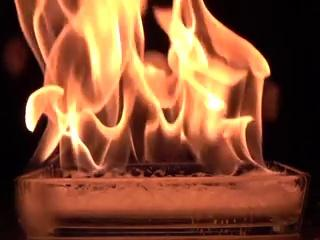Fire: (19, 4, 269, 173)
